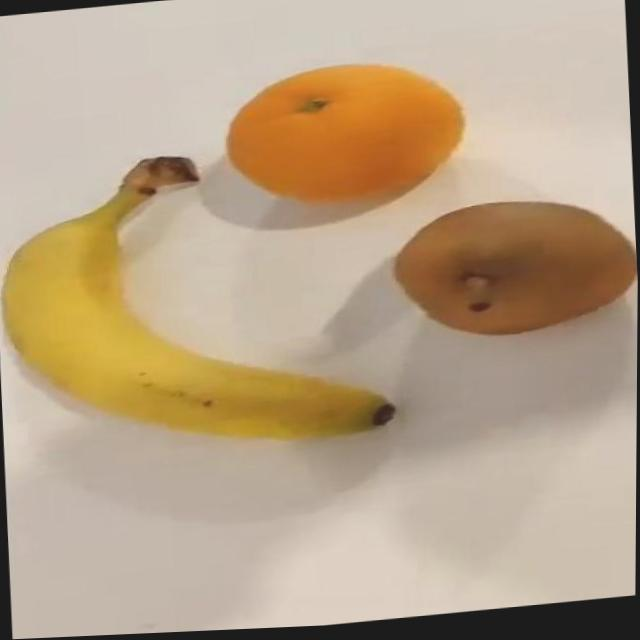Banana: (0, 137, 400, 473)
